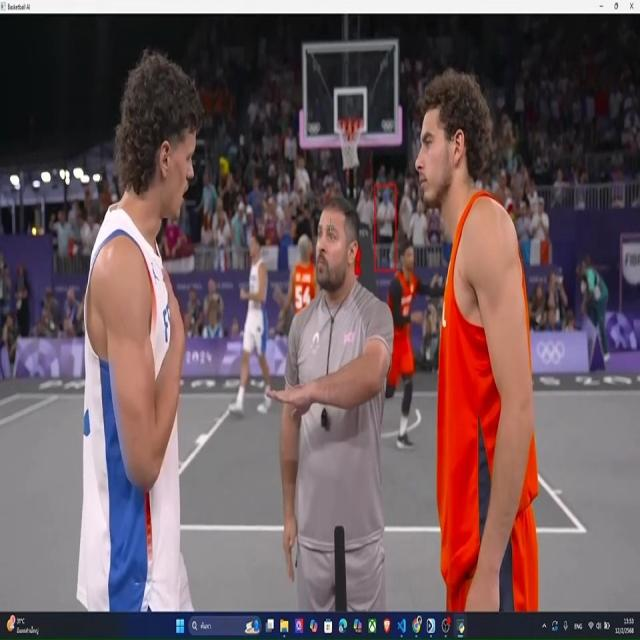hoop: (339, 116, 362, 168)
